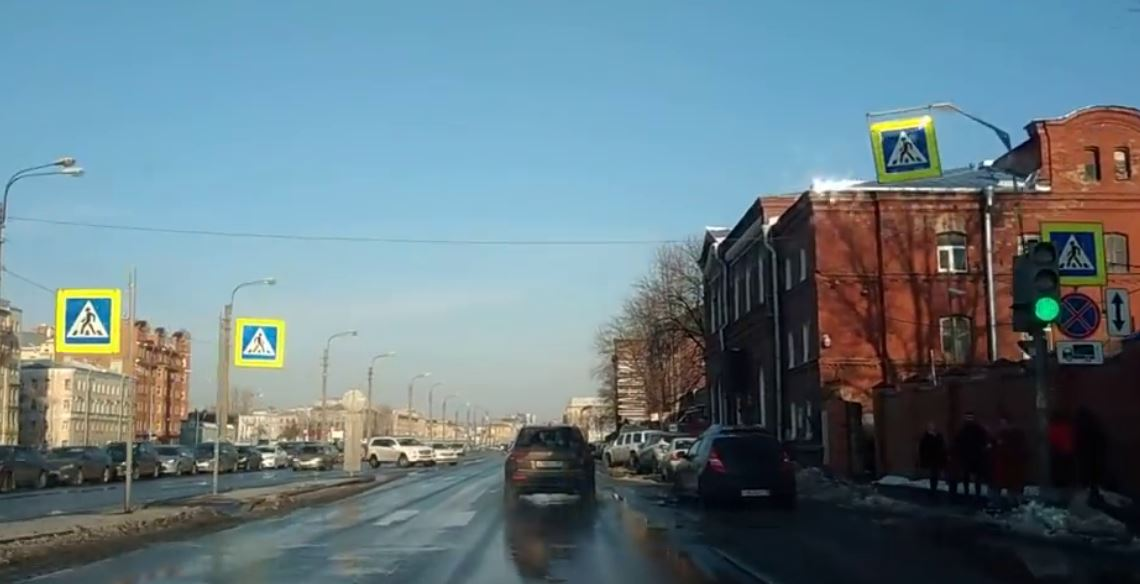Yaya Gecidi: (64, 295, 110, 342), (883, 130, 934, 168), (1058, 235, 1094, 273), (241, 325, 279, 359)
